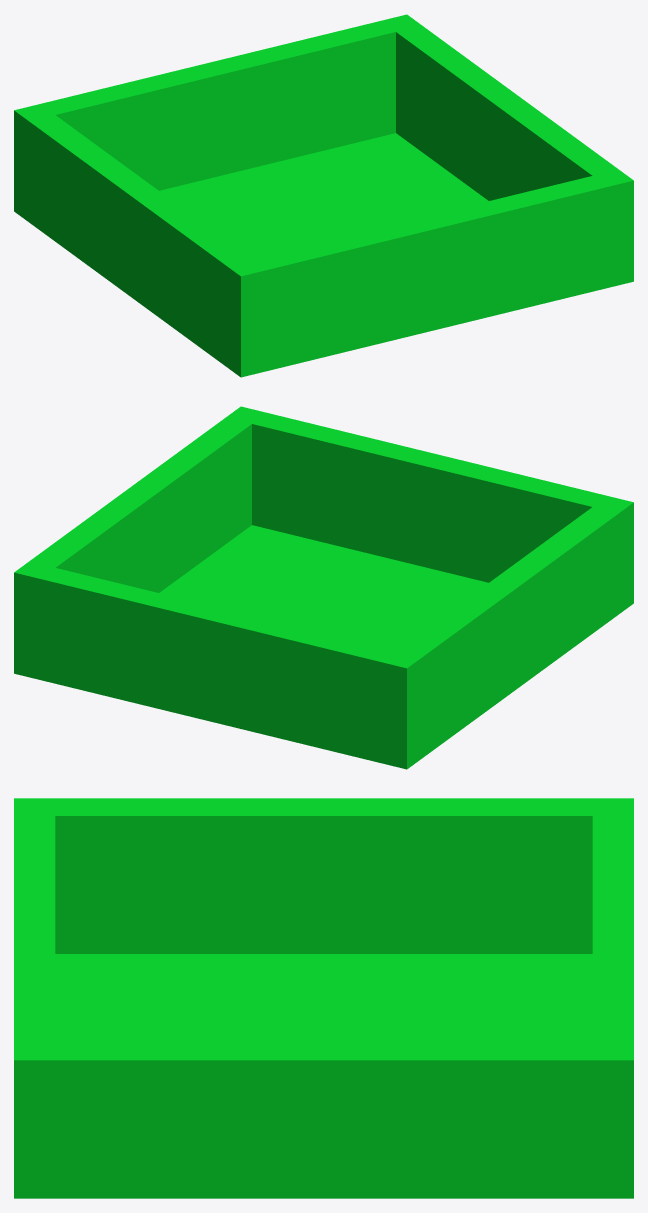
File: RoomBig.glb
3 renders of one model, top to bottom at view 1: azimuth 30°, elevation 25°; view 2: azimuth 150°, elevation 25°; view 3: azimuth 270°, elevation 25°, orthographic. The views are drawn at different scales.
Parts seen in each view (by area): view 1: Plane; view 2: Plane; view 3: Plane.
Part boxes in pixels (x1,y1,x2,y2): Plane: (14, 14, 633, 377); Plane: (14, 406, 633, 769); Plane: (14, 798, 633, 1198).
Size of the model in its own units: 1 by 0.2458 by 1.
